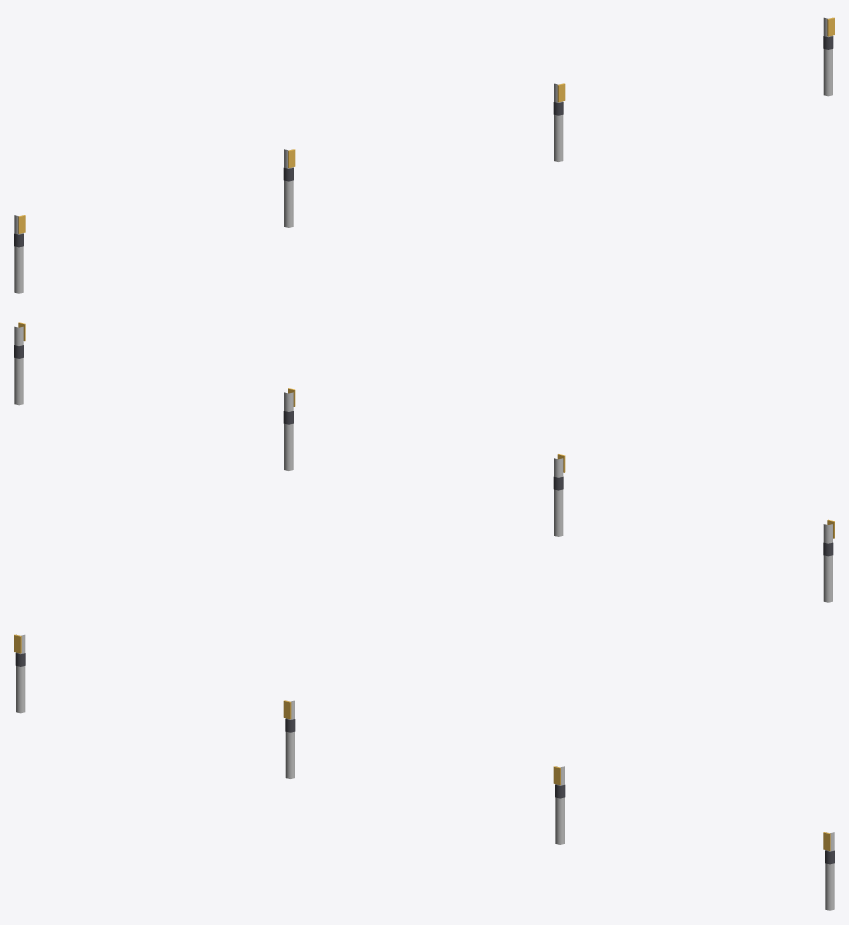
File: delineator_post_set.glb
The picture shows the model from 3 angles, top to bottom: view 1: azimuth 30°, elevation 25°; view 2: azimuth 150°, elevation 25°; view 3: azimuth 330°, elevation 25°; orthographic projection.
Parts seen in each view (by area): view 1: delineator_post_set; view 2: delineator_post_set; view 3: delineator_post_set.
Part boxes in pixels (x1=…): delineator_post_set: x1=14, y1=17, x2=834, y2=293; delineator_post_set: x1=14, y1=322, x2=834, y2=602; delineator_post_set: x1=14, y1=634, x2=834, y2=910.
Size of the model in its own units: 12.15 by 1.1 by 0.15.
